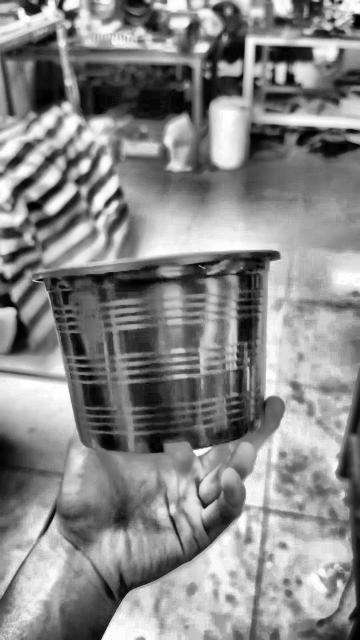pot: (35, 251, 279, 454)
